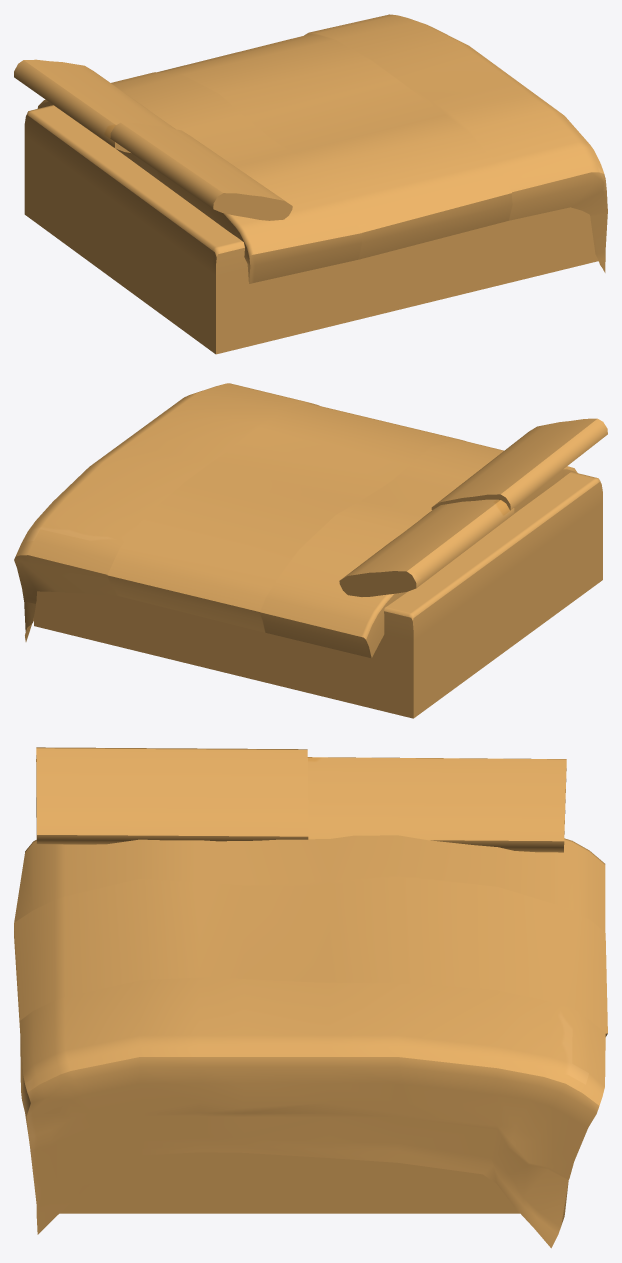
Rendered from Bed.fbx.
3 renders of one model, top to bottom at view 1: azimuth 30°, elevation 25°; view 2: azimuth 150°, elevation 25°; view 3: azimuth 270°, elevation 25°, orthographic. The views are drawn at different scales.
Parts seen in each view (by area): view 1: pCube6; view 2: pCube6; view 3: pCube6.
Boxes of the visible parts, left/top/right/bottom form: pCube6: left=14, top=14, right=607, bottom=354; pCube6: left=14, top=383, right=607, bottom=718; pCube6: left=14, top=747, right=607, bottom=1248.
Bounding box in the file's own units: 32.83 × 14.24 × 31.26.
1 material, 1 textured.
